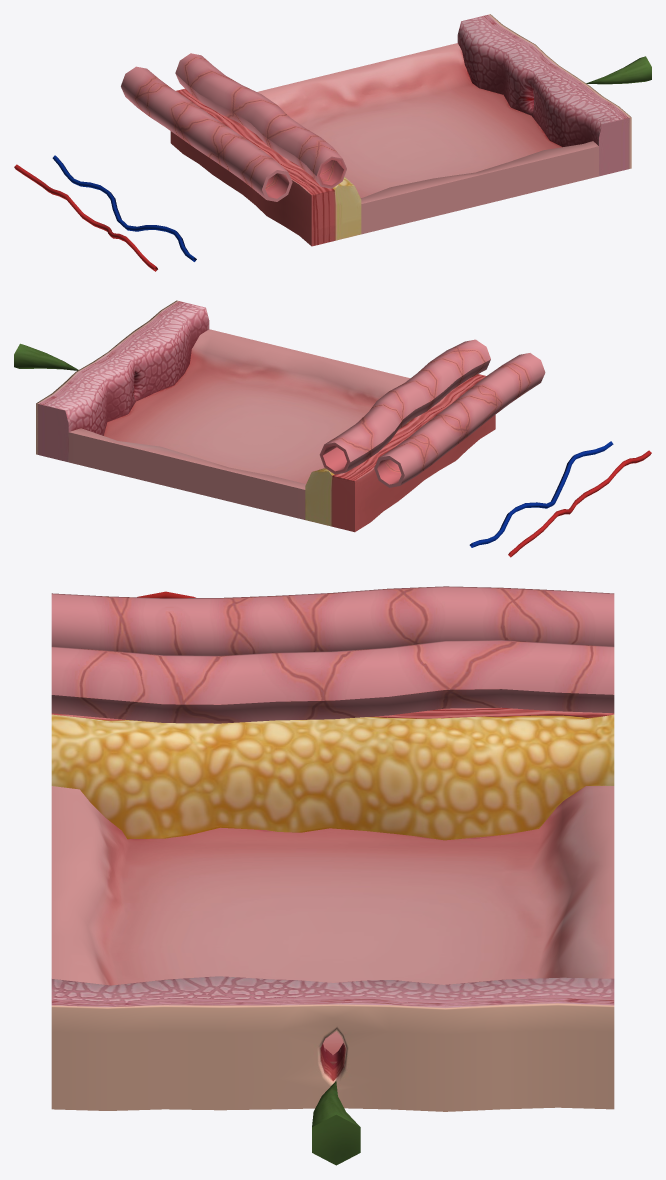
File: Level_Floor_Mesh.fbx
The picture shows the model from 3 angles, top to bottom: view 1: azimuth 30°, elevation 25°; view 2: azimuth 150°, elevation 25°; view 3: azimuth 270°, elevation 25°; orthographic projection. The views are drawn at different scales.
Visible parts, largest first — view 1: Dermis, Skin2, Sub_Tissues, Nerve_F, Nerve_u, Nerv_D, pCylinder2, pCylinder5, pCone1; view 2: Dermis, Skin2, Sub_Tissues, Nerve_F, Nerve_u, Nerv_D, pCylinder2, pCone1, pCylinder5; view 3: Dermis, Skin2, Sub_Tissues, Nerve_F, Nerve_u, Nerv_D, pCone1.
Boxes of the visible parts, box(x1,y1,x2,y2) form: Dermis: box(257, 43, 598, 234); Skin2: box(457, 14, 631, 176); Sub_Tissues: box(170, 88, 361, 246); Nerve_F: box(121, 66, 292, 201); Nerve_u: box(175, 53, 346, 176); Nerv_D: box(175, 73, 346, 188); pCylinder2: box(52, 155, 196, 261); pCylinder5: box(14, 164, 157, 271); pCone1: box(586, 56, 651, 84); Dermis: box(68, 329, 409, 519); Skin2: box(36, 300, 209, 462); Sub_Tissues: box(305, 374, 495, 532); Nerve_F: box(374, 353, 545, 487); Nerve_u: box(319, 339, 490, 462); Nerv_D: box(320, 359, 490, 474); pCylinder2: box(469, 441, 613, 547); pCone1: box(14, 343, 78, 370); pCylinder5: box(508, 450, 651, 557); Dermis: box(51, 786, 614, 1064); Skin2: box(51, 976, 614, 1111); Sub_Tissues: box(51, 707, 614, 840); Nerve_F: box(51, 586, 614, 655); Nerve_u: box(51, 640, 614, 704); Nerv_D: box(51, 689, 614, 723); pCone1: box(312, 1081, 360, 1165).
Size of the model in its own units: 46.25 by 6.91 by 20.
